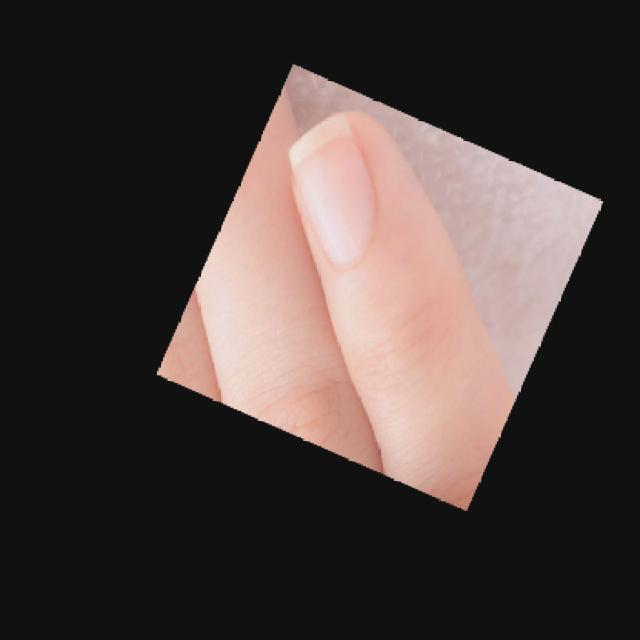Nail: (288, 115, 378, 264)
